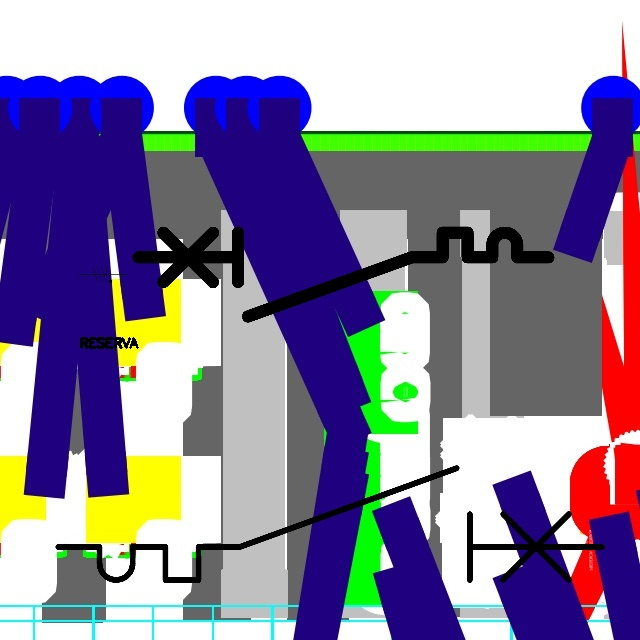interruptor_termomagnetico: (44, 454, 616, 594), (127, 222, 558, 327)
